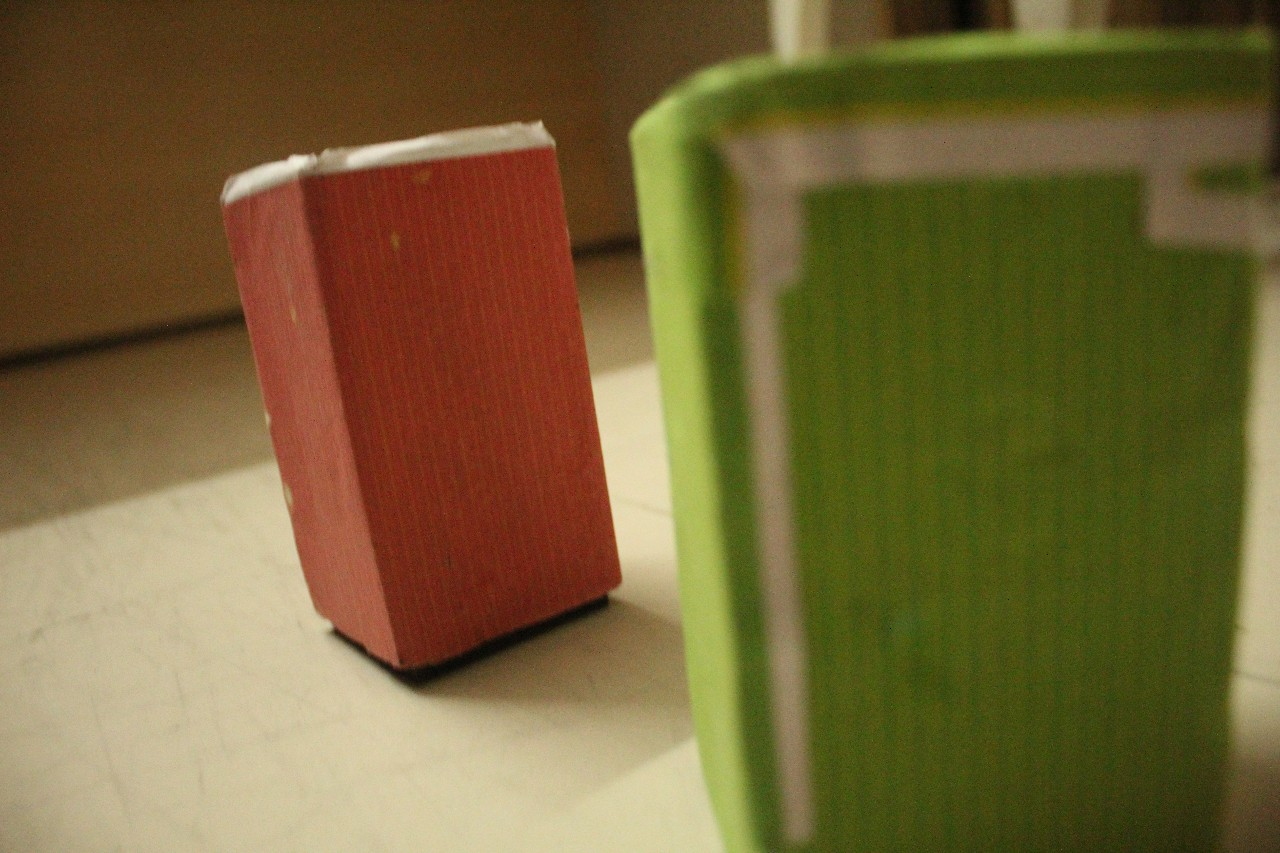green: (597, 0, 1280, 853)
red: (0, 0, 724, 737)
